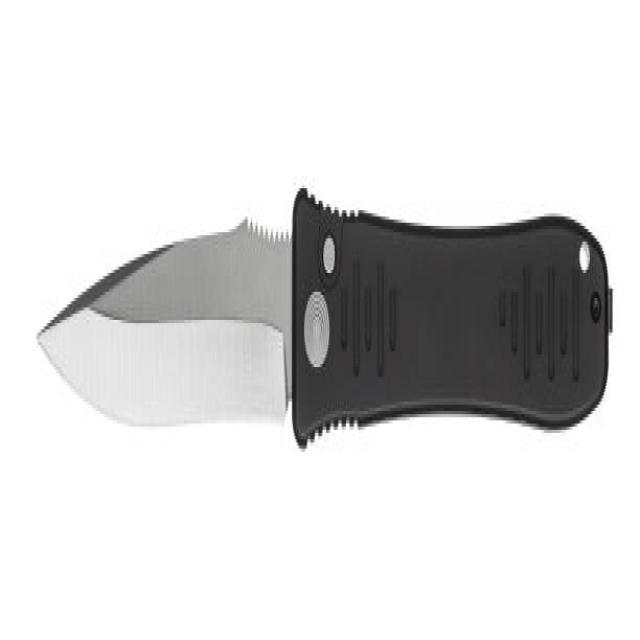knife: (28, 148, 619, 501)
